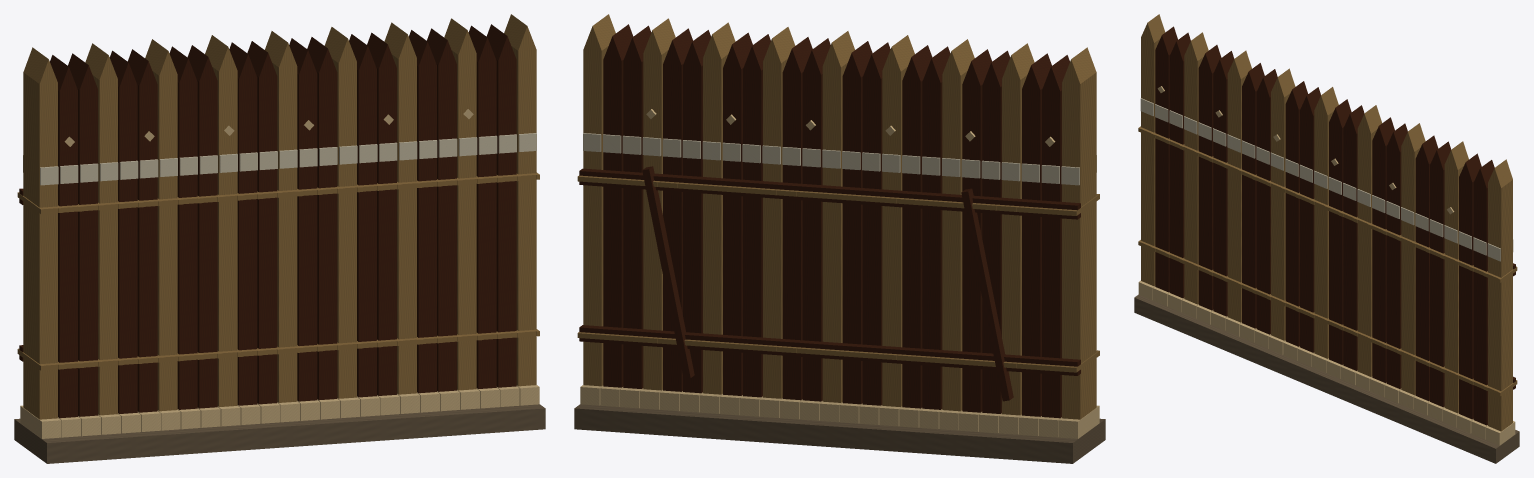
The model's file is Berber_Palisade_Age4_slope_down_6m.fbx.
3 renders of one model, left to right at view 1: azimuth 30°, elevation 25°; view 2: azimuth 150°, elevation 25°; view 3: azimuth 330°, elevation 25°, orthographic. The views are drawn at different scales.
Parts seen in each view (by area): view 1: palm_split_post.062, palm_split_post.057, palm_split_post.055, palm_split_post.059, palm_split_post.052, palm_split_post.061, palm_split_post.064, palm_split_post.058, earth_seat.008, post_earth_socket.008, neutral_owner_band.008, front_lashing.008 (+1 smaller); view 2: palm_split_post.057, palm_split_post.062, palm_split_post.052, palm_split_post.055, palm_split_post.059, earth_seat.008, palm_split_post.061, palm_split_post.058, palm_split_post.064, continuous_rear_tie.008, post_earth_socket.008, neutral_owner_band.008 (+3 smaller); view 3: palm_split_post.059, palm_split_post.057, palm_split_post.055, palm_split_post.062, palm_split_post.052, earth_seat.008, palm_split_post.058, palm_split_post.061, palm_split_post.064, post_earth_socket.008, neutral_owner_band.008, front_lashing.008 (+1 smaller).
Part boxes in pixels (box(x1,y1,x2,y2)): palm_split_post.062: box(169, 24, 516, 409); palm_split_post.057: box(68, 25, 496, 416); palm_split_post.055: box(50, 32, 396, 418); palm_split_post.059: box(109, 28, 456, 413); palm_split_post.052: box(23, 14, 536, 419); palm_split_post.061: box(145, 22, 416, 411); palm_split_post.064: box(205, 18, 476, 406); palm_split_post.058: box(85, 27, 356, 415); earth_seat.008: box(14, 404, 545, 463); post_earth_socket.008: box(20, 385, 539, 438); neutral_owner_band.008: box(23, 133, 536, 185); front_lashing.008: box(40, 173, 538, 370); palm_split_post.057: box(623, 25, 1051, 416); palm_split_post.062: box(603, 24, 950, 409); palm_split_post.052: box(583, 14, 1096, 419); palm_split_post.055: box(723, 32, 1069, 418); palm_split_post.059: box(663, 28, 1010, 413); earth_seat.008: box(574, 404, 1105, 463); palm_split_post.061: box(703, 22, 974, 411); palm_split_post.058: box(763, 27, 1034, 415); palm_split_post.064: box(643, 18, 914, 406); continuous_rear_tie.008: box(579, 168, 1080, 375); post_earth_socket.008: box(580, 385, 1099, 438); neutral_owner_band.008: box(583, 133, 1096, 185); palm_split_post.059: box(1198, 45, 1451, 407); palm_split_post.057: box(1169, 32, 1481, 419); palm_split_post.055: box(1155, 26, 1407, 388); palm_split_post.062: box(1242, 63, 1494, 425); palm_split_post.052: box(1141, 14, 1512, 431); earth_seat.008: box(1134, 294, 1519, 463); palm_split_post.058: box(1184, 32, 1381, 376); palm_split_post.061: box(1227, 50, 1425, 395); palm_split_post.064: box(1271, 68, 1468, 413); post_earth_socket.008: box(1138, 280, 1515, 445); neutral_owner_band.008: box(1140, 98, 1513, 261); front_lashing.008: box(1139, 127, 1501, 394).
Bounding box in the file's own units: 601 × 556 × 68.29.
5 materials, 5 textured.
